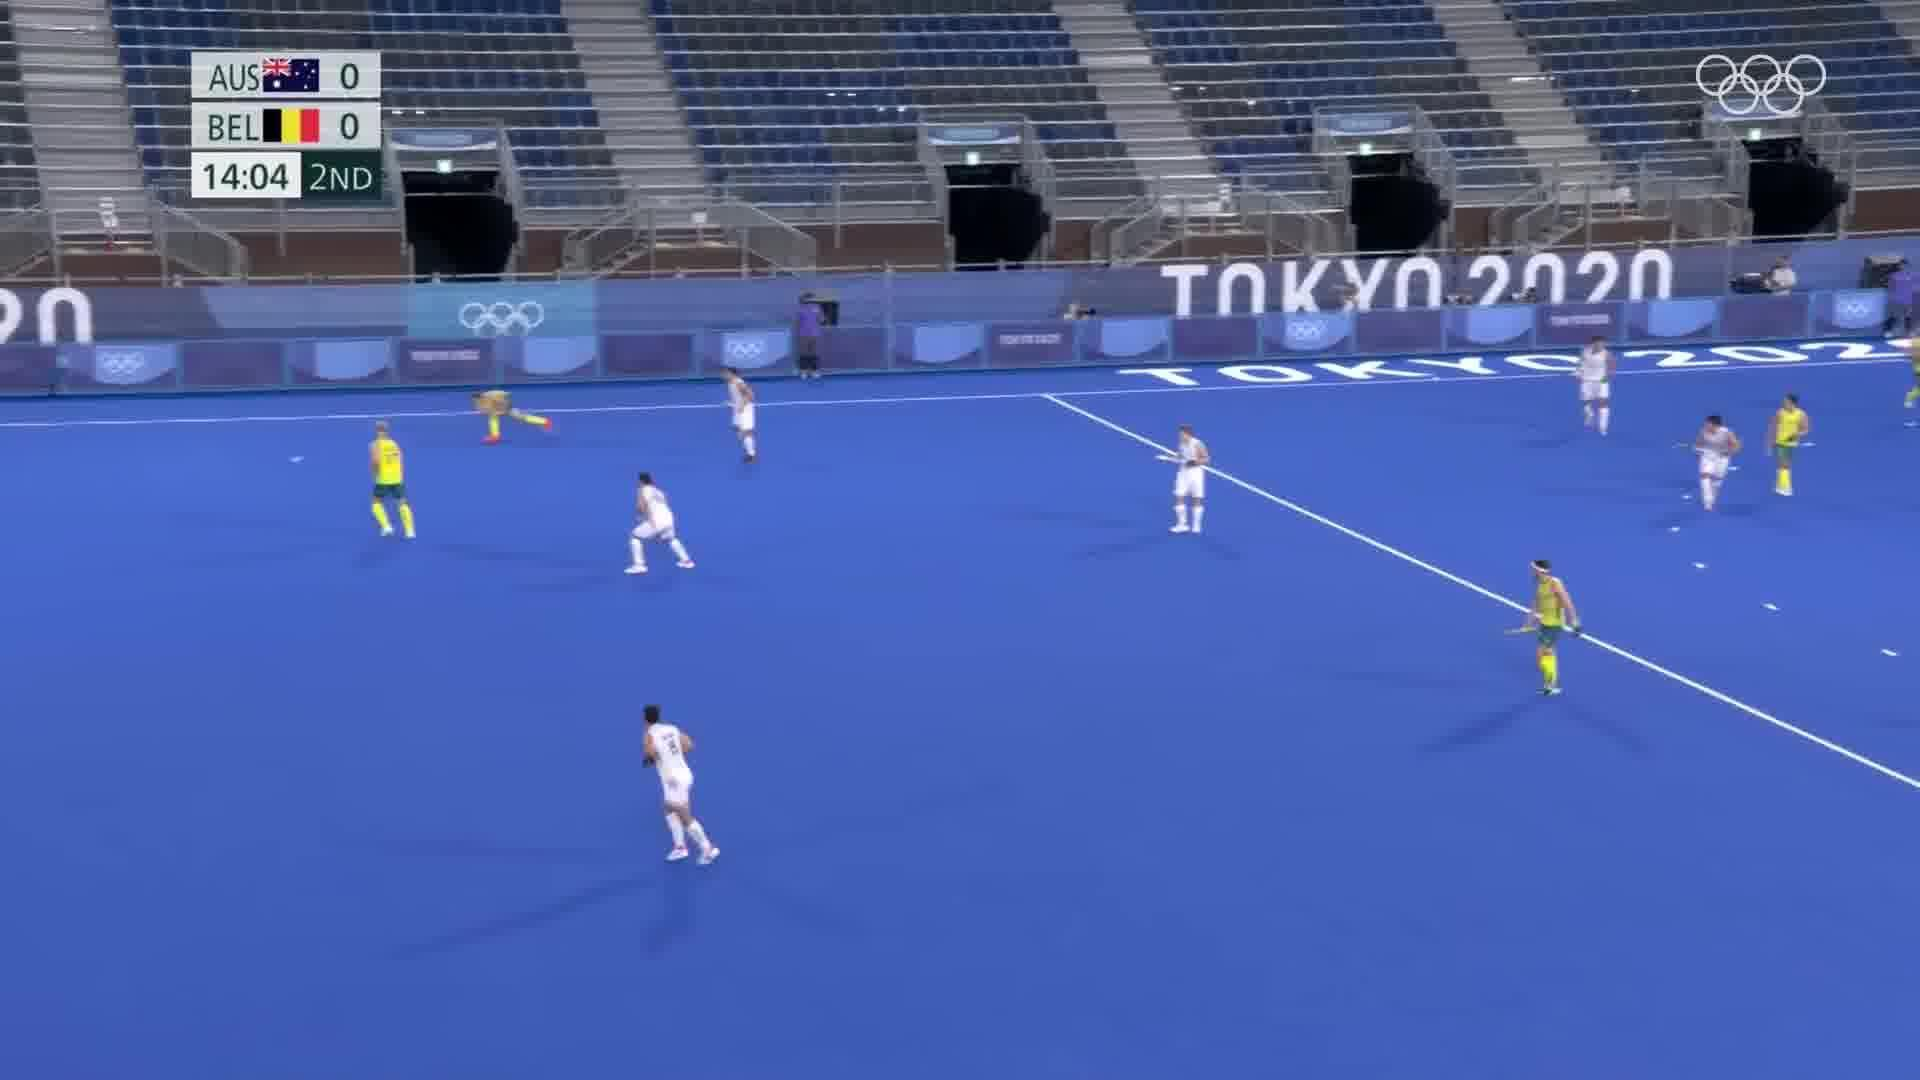ball: (285, 452, 307, 465)
